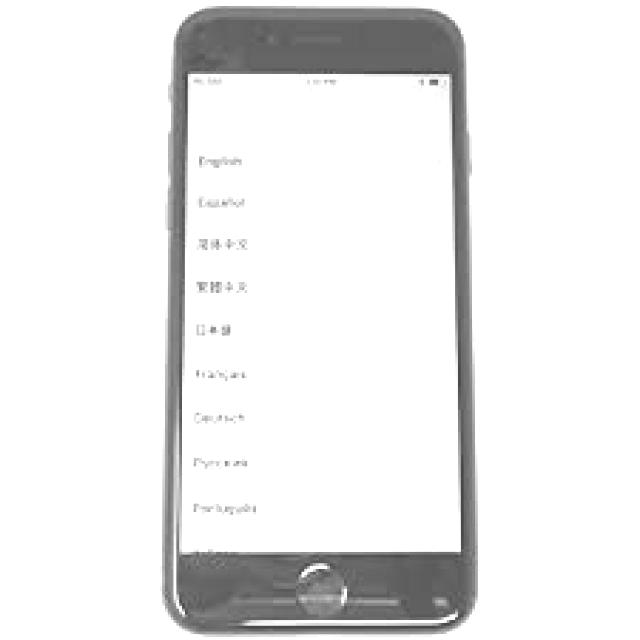fake: (162, 0, 484, 637)
